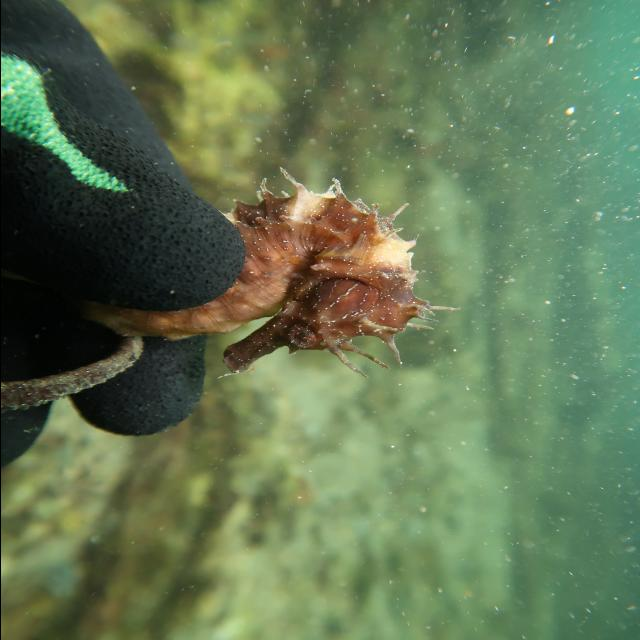Guttu: (213, 263, 431, 382)
